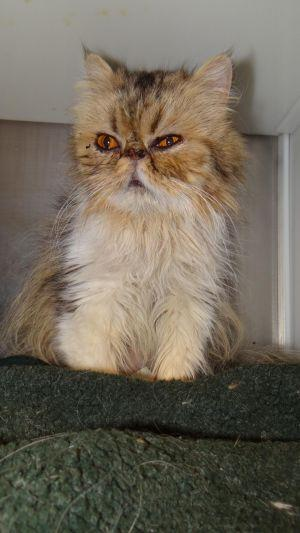persian: (66, 32, 250, 219)
